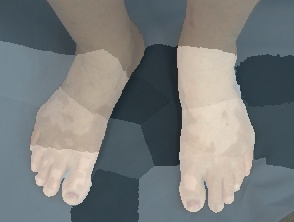vitiligo: (18, 0, 154, 214), (177, 0, 265, 216)
